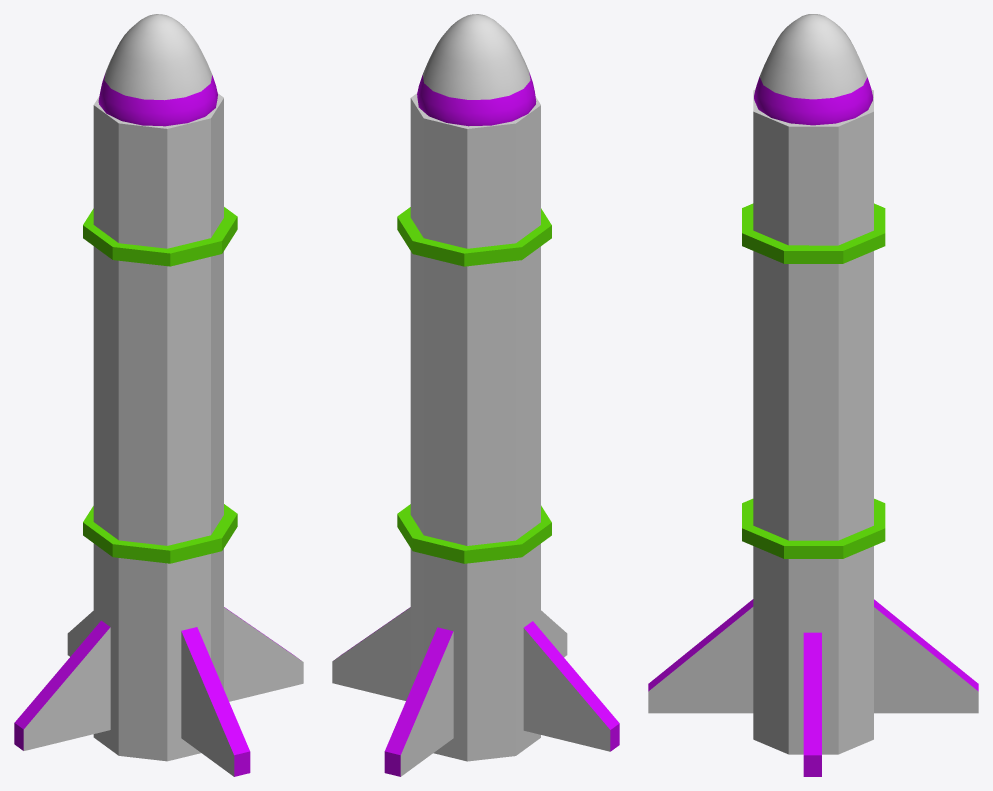
The model's file is missile_lv3.fbx.
3 views of the same model, side by side, from view 1: azimuth 30°, elevation 25°; view 2: azimuth 150°, elevation 25°; view 3: azimuth 270°, elevation 25° (orthographic).
Visible parts, largest first — view 1: missile_lv3; view 2: missile_lv3; view 3: missile_lv3.
Boxes of the visible parts, x1,y1,x2,y2 form: missile_lv3: (14, 14, 303, 776); missile_lv3: (332, 14, 619, 776); missile_lv3: (648, 14, 978, 776).
Size of the model in its own units: 91.31 by 225 by 94.37.
